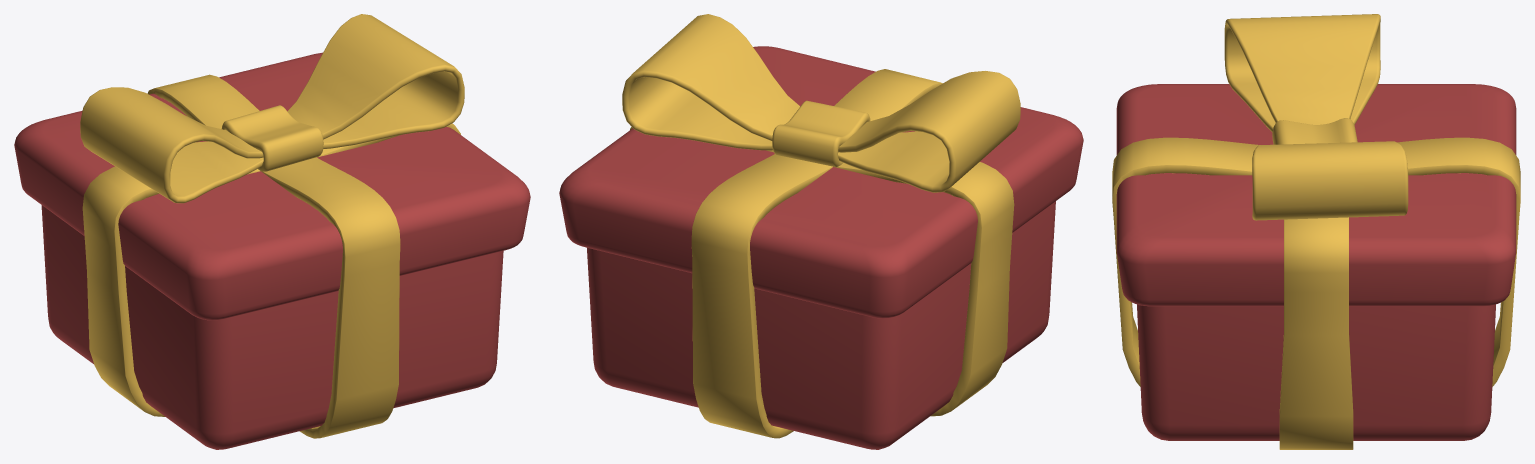
File: Gift03.fbx
The picture shows the model from 3 angles, left to right: view 1: azimuth 30°, elevation 25°; view 2: azimuth 150°, elevation 25°; view 3: azimuth 270°, elevation 25°; orthographic projection.
Parts seen in each view (by area): view 1: Gift 03; view 2: Gift 03; view 3: Gift 03.
Part boxes in pixels (x1,y1,x2,y2): Gift 03: [14, 14, 530, 449]; Gift 03: [559, 14, 1083, 449]; Gift 03: [1112, 14, 1520, 449].
Bounding box in the file's own units: 225 × 188 × 225.
